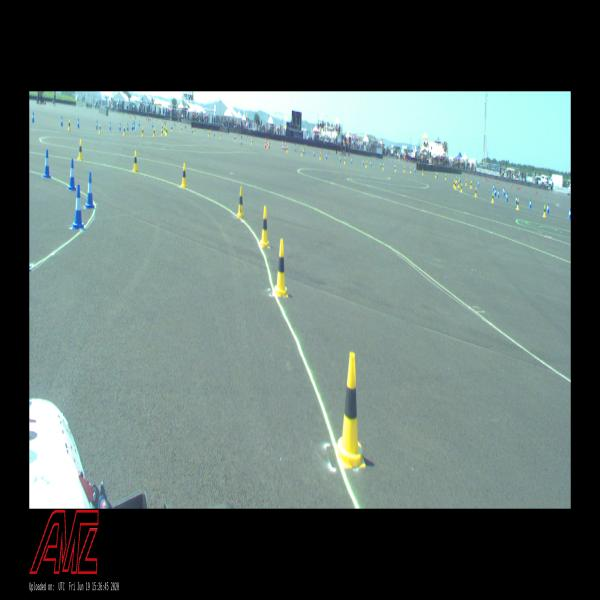blue_cone: (72, 184, 84, 229), (85, 172, 95, 208), (68, 158, 77, 190), (43, 150, 51, 178), (568, 209, 571, 219), (60, 116, 63, 126), (77, 118, 80, 128), (505, 192, 508, 201), (95, 120, 98, 129), (547, 202, 549, 213), (529, 198, 531, 209), (32, 112, 34, 122), (133, 120, 135, 130), (109, 121, 111, 130), (477, 180, 480, 186), (497, 190, 499, 198), (515, 195, 517, 203), (494, 188, 496, 196), (503, 188, 505, 196), (502, 186, 504, 194), (119, 123, 121, 130), (126, 123, 128, 130), (339, 155, 341, 162), (313, 150, 315, 157), (138, 120, 140, 126), (152, 122, 154, 128), (303, 148, 305, 154), (362, 159, 364, 165), (459, 177, 461, 182), (213, 131, 215, 136), (283, 145, 285, 150), (132, 123, 133, 130), (370, 160, 371, 167), (493, 184, 494, 190), (326, 153, 327, 159), (351, 157, 352, 163), (380, 161, 381, 167), (171, 124, 172, 130), (234, 134, 235, 140), (394, 164, 395, 170), (414, 167, 415, 172), (437, 172, 438, 176), (192, 129, 193, 133)
large_orange_cone: (268, 138, 270, 149), (265, 138, 266, 148), (282, 141, 283, 149), (285, 142, 286, 150)
yellow_cone: (338, 352, 366, 468), (274, 238, 288, 296), (260, 206, 269, 247), (237, 186, 244, 218), (181, 163, 187, 188), (77, 140, 84, 160), (133, 151, 138, 172), (98, 123, 102, 134), (543, 205, 546, 217), (516, 199, 519, 210), (491, 192, 494, 202), (123, 126, 126, 135), (141, 127, 144, 136), (474, 188, 477, 197), (68, 119, 70, 130), (460, 183, 462, 192), (153, 128, 155, 136), (453, 179, 455, 187), (365, 160, 367, 168), (454, 181, 456, 189), (465, 179, 467, 186), (344, 157, 346, 164), (161, 129, 163, 136), (458, 180, 460, 187), (470, 182, 472, 189), (286, 146, 288, 153), (403, 166, 405, 172), (171, 125, 173, 131), (164, 126, 166, 132), (166, 128, 168, 134), (251, 140, 253, 146), (220, 133, 222, 139), (208, 131, 210, 136), (320, 152, 321, 160), (471, 180, 472, 188), (445, 173, 446, 180), (456, 176, 457, 183), (383, 163, 384, 170), (395, 165, 396, 172), (410, 167, 411, 173), (435, 172, 436, 178), (422, 169, 423, 175), (162, 125, 163, 131), (301, 149, 302, 155), (194, 128, 195, 134), (181, 126, 182, 132), (166, 126, 167, 132), (235, 136, 236, 142), (267, 142, 268, 148)
